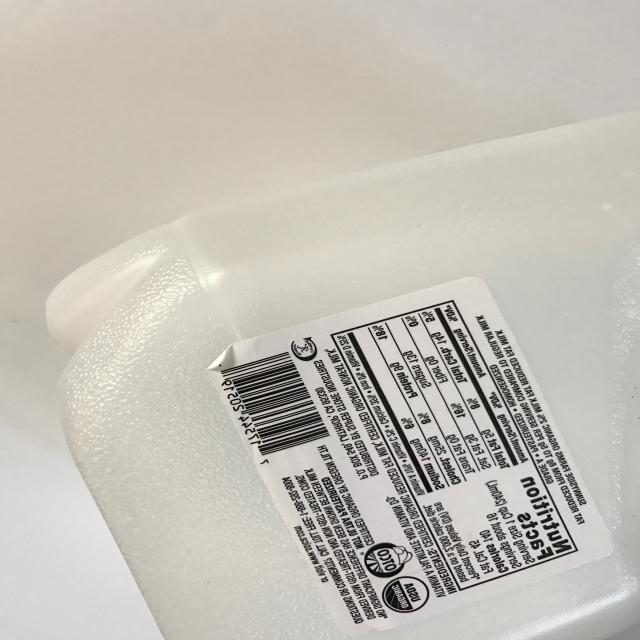plastic: (45, 109, 640, 640)
